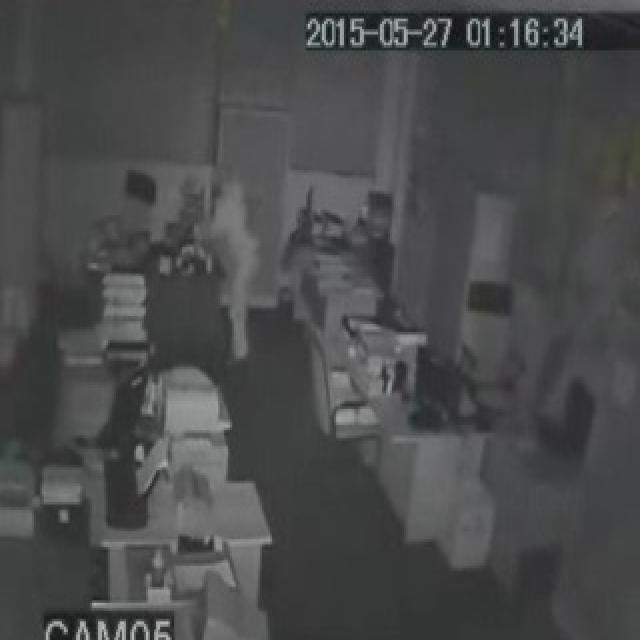thief: (184, 126, 268, 357)
